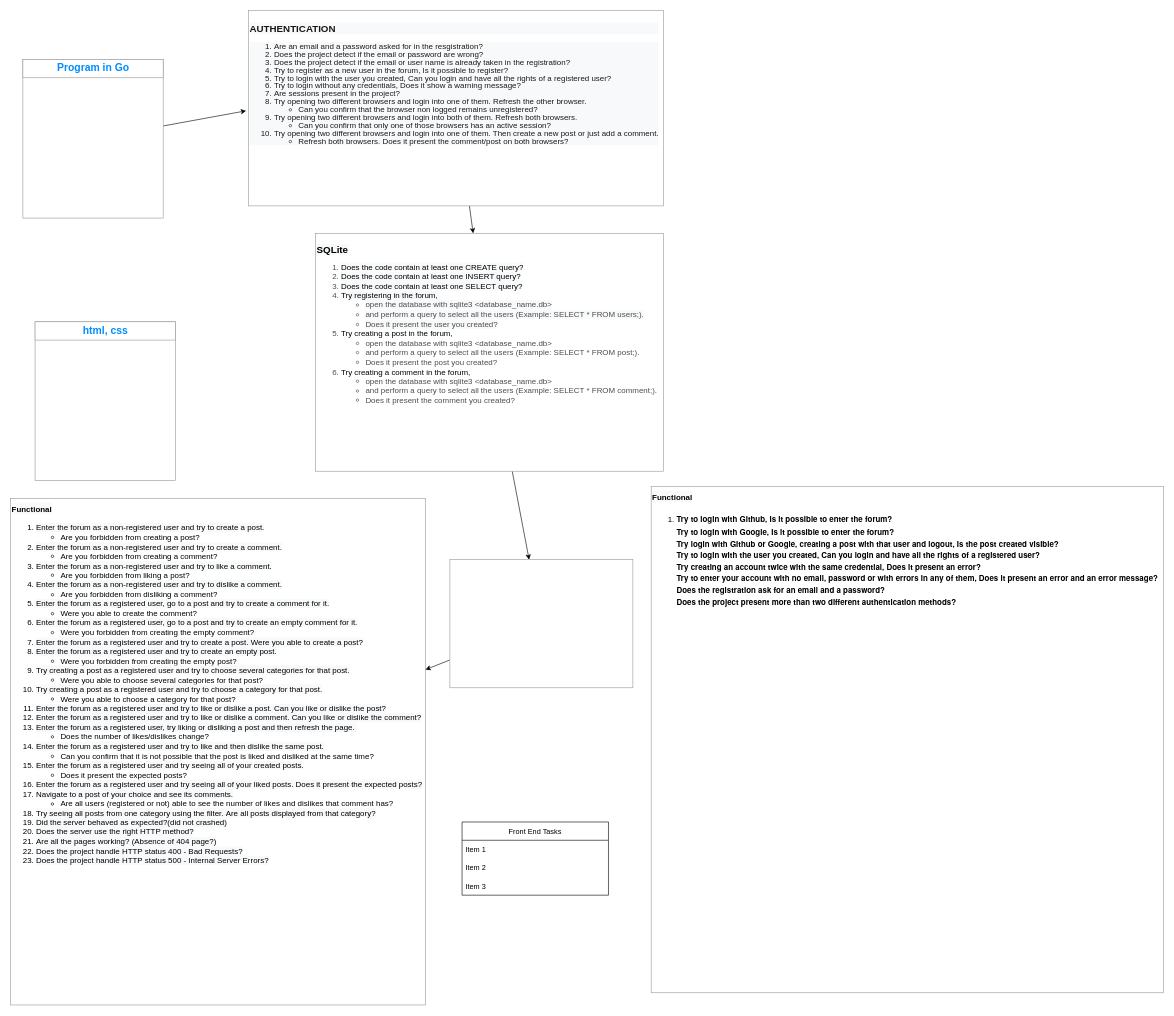
Image size: 1174x1016. Some labels were removed from this diagram. Each missing label, with the centre of its shape:
Back-End sql sys-admin: point (92, 138)
DOCKER: point (541, 623)
Front-End html css Docker: point (104, 400)
